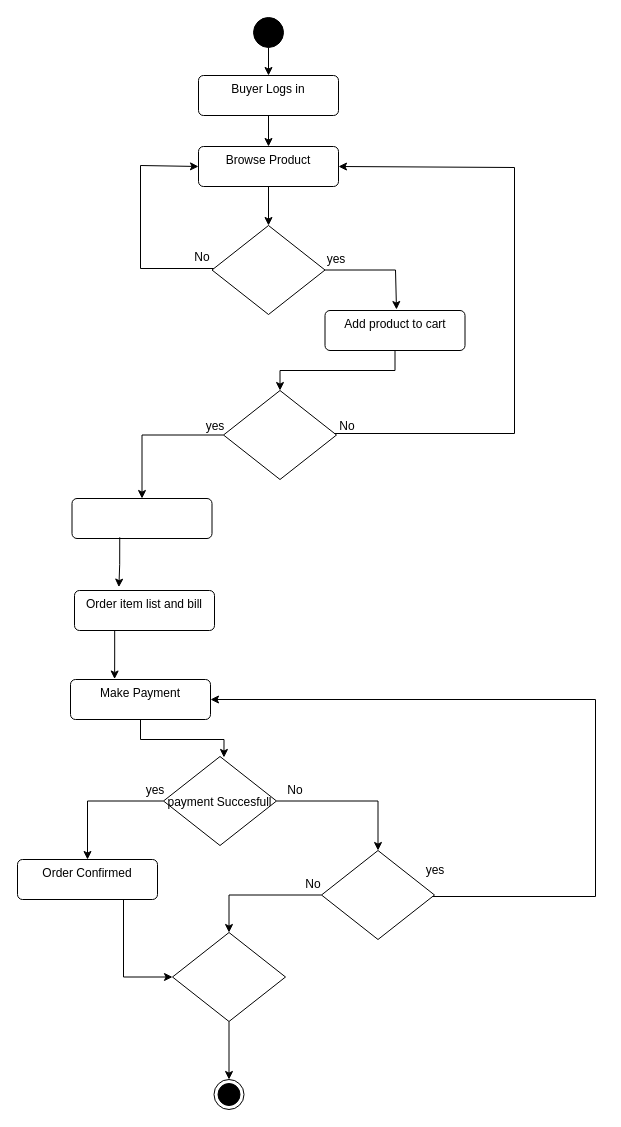
Image size: 621x1127. Some labels were removed from this diagram. The shapes that lost their labels are listed below. From the top down, each one's centre as x and y in pixels, then its label:
(x=268, y=269): Add to cart
(x=279, y=435): Done with order
(x=141, y=518): Place Order
(x=377, y=895): Retry
